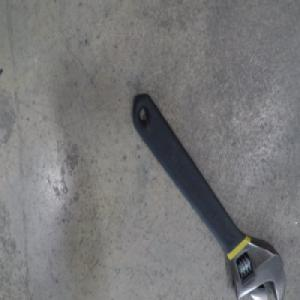AdjustableWrench: (131, 93, 285, 299)
